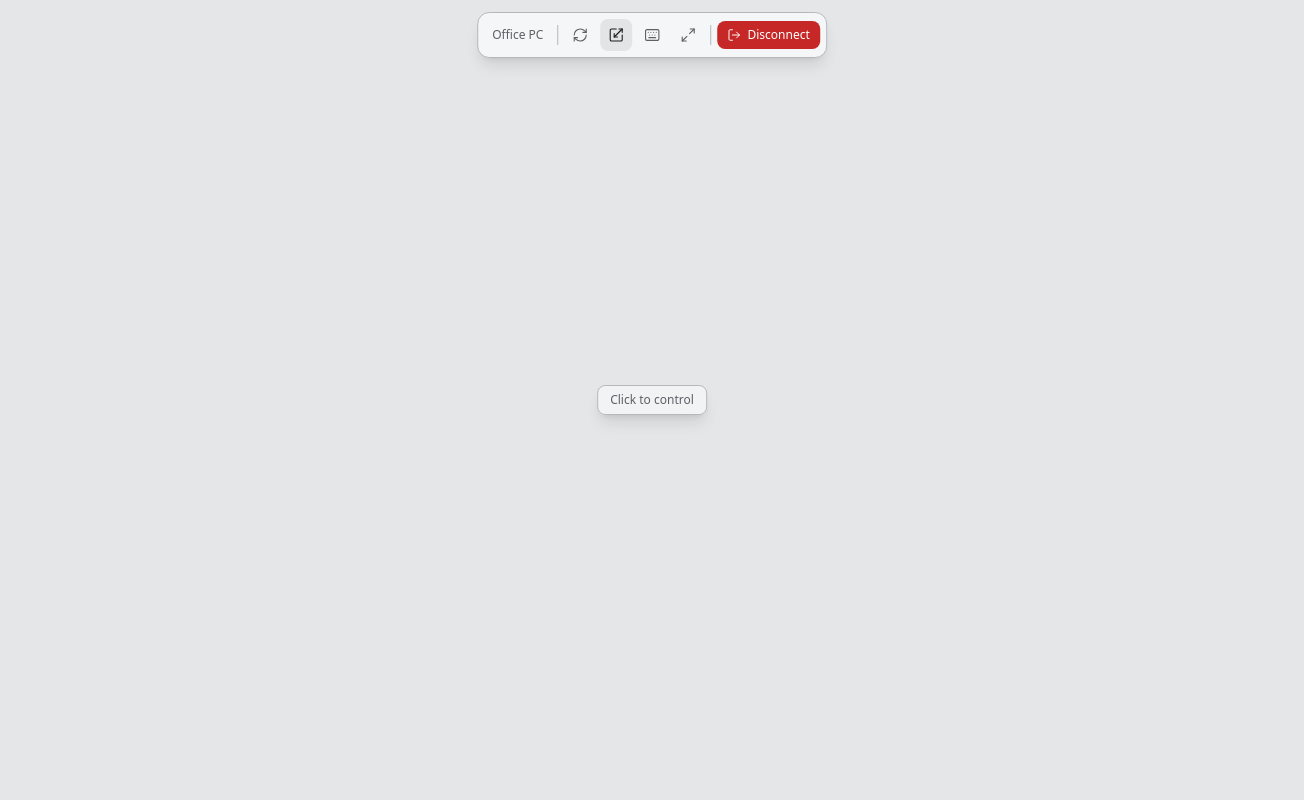
Test: SessionScreen keyboard passthrough › says on screen that shortcuts are going through literally
Step 1. Click the button named "keyboard passthrough" → {"x": 652, "y": 35}, box [636, 19, 668, 51]
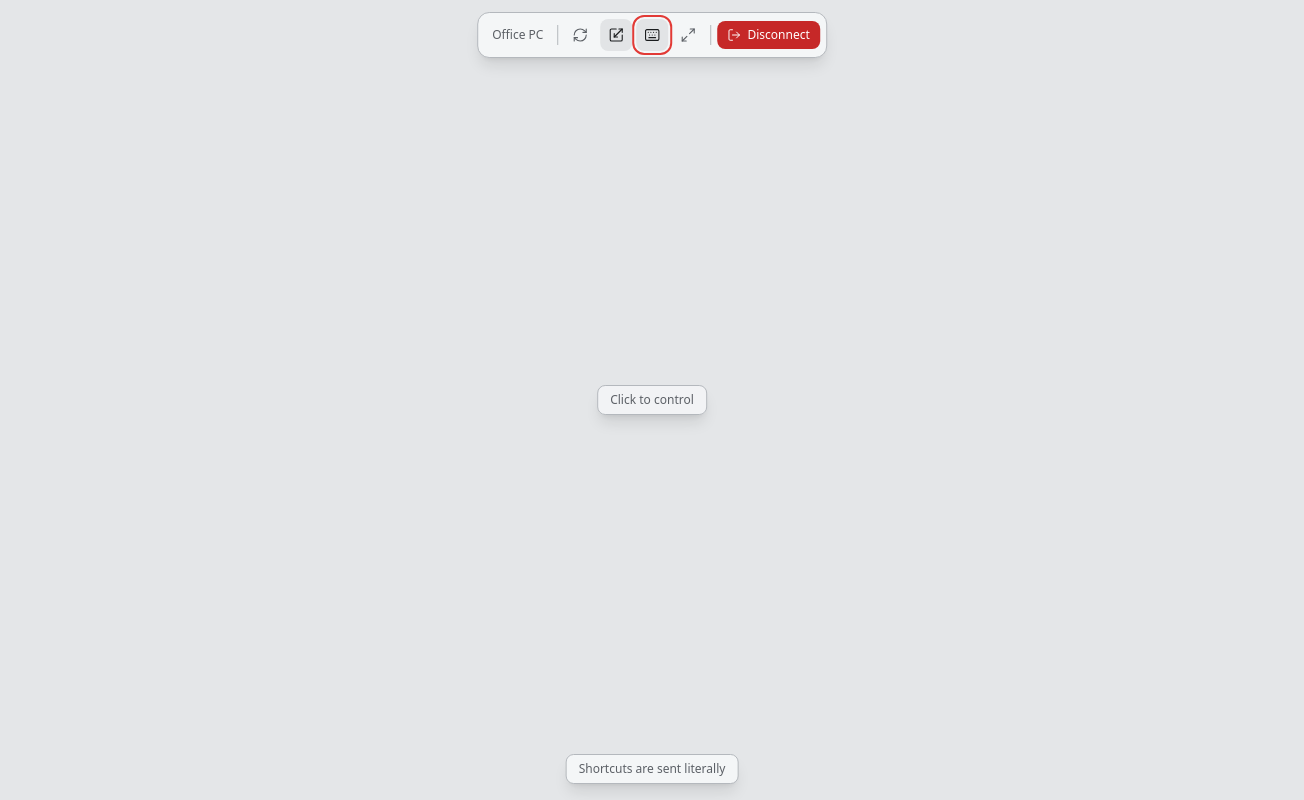
Expected: the text "Shortcuts are sent literally" is shown, [566, 754, 738, 784]
